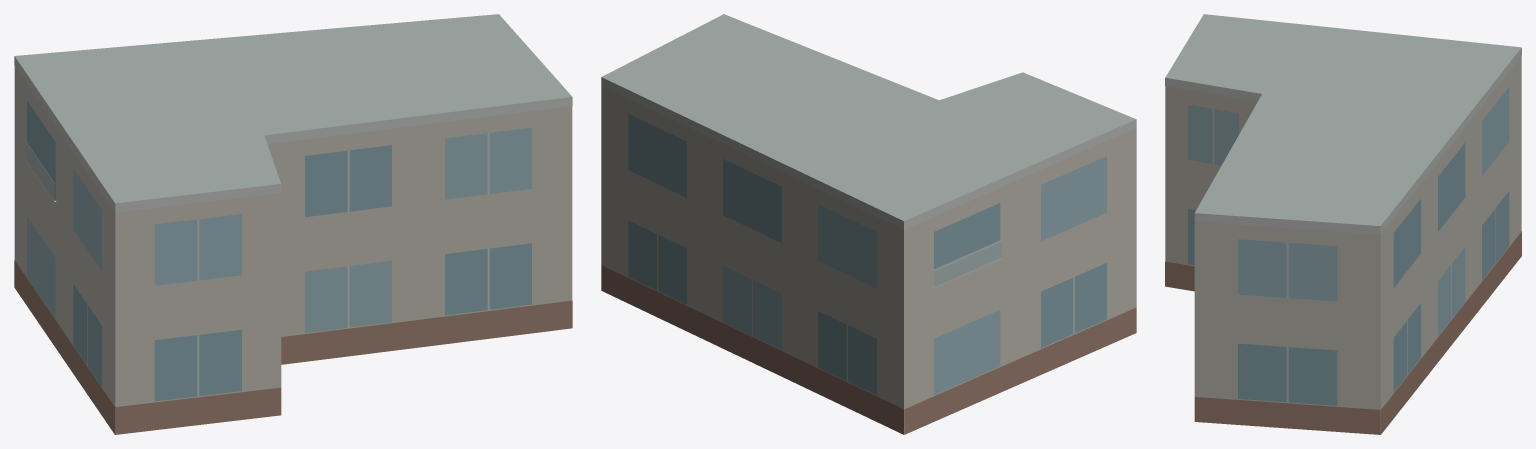
File: survey-upis-32758823.glb
3 renders of one model, left to right at view 1: azimuth 30°, elevation 25°; view 2: azimuth 150°, elevation 25°; view 3: azimuth 270°, elevation 25°, orthographic. The views are drawn at different scales.
Parts seen in each view (by area): view 1: survey-upis-32758823.tmp; view 2: survey-upis-32758823.tmp; view 3: survey-upis-32758823.tmp.
Boxes of the visible parts, x1,y1,x2,y2 form: survey-upis-32758823.tmp: (14,14,572,434); survey-upis-32758823.tmp: (601,14,1136,434); survey-upis-32758823.tmp: (1165,14,1521,434).
Bounding box in the file's own units: 13.3 × 6.1 × 9.46.
